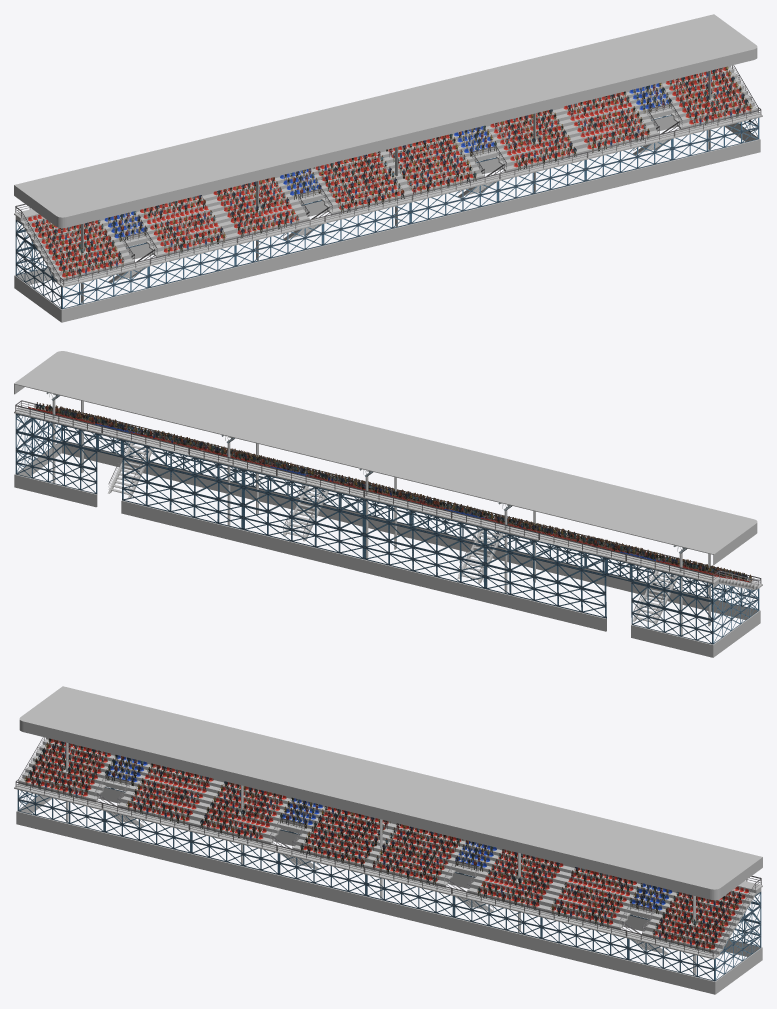
The model's file is GrandStand-09.fbx.
3 renders of one model, top to bottom at view 1: azimuth 30°, elevation 25°; view 2: azimuth 150°, elevation 25°; view 3: azimuth 330°, elevation 25°, orthographic.
Visible parts, largest first — view 1: GrandStand-09, Audience; view 2: GrandStand-09, Audience; view 3: GrandStand-09, Audience.
Boxes of the visible parts, bbox=[...] form: GrandStand-09: bbox=[14, 14, 762, 322]; Audience: bbox=[35, 66, 752, 280]; GrandStand-09: bbox=[14, 351, 762, 657]; Audience: bbox=[35, 402, 752, 582]; GrandStand-09: bbox=[14, 686, 762, 994]; Audience: bbox=[24, 738, 741, 952].
Size of the model in its own units: 12000 by 1694 by 1459.
